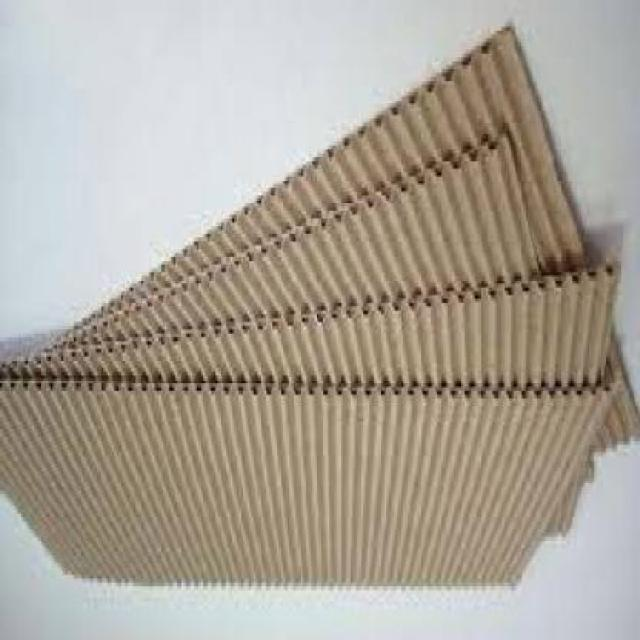CARDBOARD: (44, 29, 638, 457), (2, 127, 602, 487), (2, 268, 626, 541), (2, 372, 623, 590)
